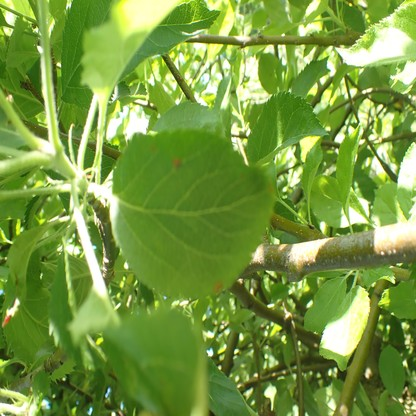frogeye_leaf_spot: (213, 282, 222, 293), (173, 157, 181, 169)
